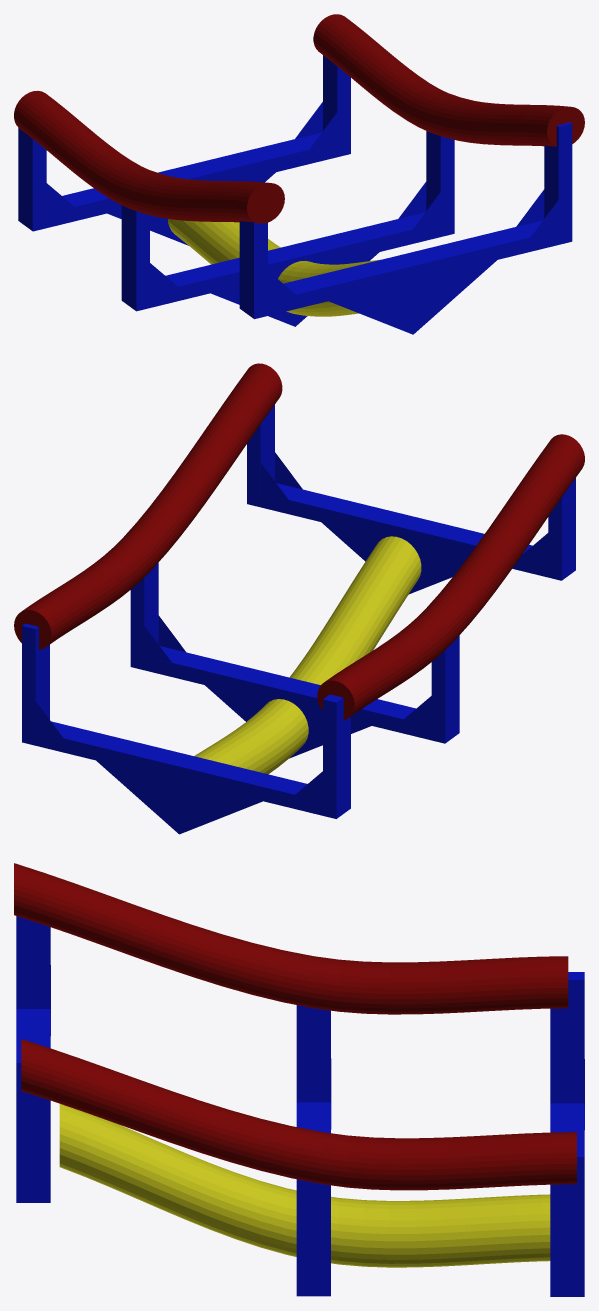
File: oneTrackPieceUp.fbx
The picture shows the model from 3 angles, top to bottom: view 1: azimuth 30°, elevation 25°; view 2: azimuth 150°, elevation 25°; view 3: azimuth 270°, elevation 25°; orthographic projection. The views are drawn at different scales.
Visible parts, largest first — view 1: right_circle, left_circle, Cube, Cube_4, Cap_2_4, Cube_2_3, bottum_circle, Cube_1, Cube_1_4, Cube_3, Cube_2, Cube_2_5 (+17 smaller); view 2: right_circle, left_circle, bottum_circle, Cube_4, Cube, Cube_3, Cap_1_13, Cube_1_4, Cube_2_5, Cap_1_4, Cube_1_3, Cube_2_4 (+8 smaller); view 3: bottum_circle, right_circle, left_circle, Cube_2_5, Cube_2, Cube_2_2, Cube_1_4, Cube_1_2, Cube_1, Cube, Cube_4, Cube_3 (+1 smaller).
Part boxes in pixels (left/top/right/bottom): right_circle: left=313, top=14, right=570, bottom=146; left_circle: left=14, top=90, right=268, bottom=223; Cube: left=254, top=220, right=572, bottom=319; Cube_4: left=34, top=132, right=349, bottom=231; Cap_2_4: left=326, top=257, right=499, bottom=334; Cube_2_3: left=138, top=219, right=454, bottom=310; bottum_circle: left=168, top=219, right=380, bottom=316; Cube_1: left=239, top=221, right=267, bottom=318; Cube_1_4: left=18, top=128, right=46, bottom=231; Cube_3: left=213, top=212, right=424, bottom=275; Cube_2: left=544, top=122, right=572, bottom=229; Cube_2_5: left=323, top=55, right=350, bottom=156; right_circle: left=21, top=363, right=282, bottom=646; left_circle: left=325, top=434, right=584, bottom=716; bottum_circle: left=194, top=536, right=421, bottom=774; Cube_4: left=22, top=721, right=336, bottom=818; Cube: left=247, top=483, right=561, bottom=580; Cube_3: left=131, top=646, right=444, bottom=743; Cap_1_13: left=93, top=758, right=265, bottom=834; Cube_1_4: left=323, top=694, right=350, bottom=818; Cube_2_5: left=22, top=623, right=49, bottom=744; Cap_1_4: left=321, top=522, right=466, bottom=594; Cube_1_3: left=431, top=635, right=459, bottom=743; Cube_2_4: left=130, top=562, right=158, bottom=669; bottum_circle: left=59, top=1104, right=550, bottom=1267; right_circle: left=21, top=1039, right=576, bottom=1190; left_circle: left=14, top=863, right=568, bottom=1014; Cube_2_5: left=550, top=1149, right=584, bottom=1296; Cube_2: left=16, top=1055, right=50, bottom=1202; Cube_2_2: left=296, top=1179, right=330, bottom=1295; Cube_1_4: left=550, top=972, right=584, bottom=1103; Cube_1_2: left=296, top=1005, right=330, bottom=1102; Cube_1: left=16, top=916, right=50, bottom=1008; Cube: left=16, top=1009, right=50, bottom=1202; Cube_4: left=550, top=1103, right=584, bottom=1148; Cube_3: left=296, top=1102, right=330, bottom=1133.
Size of the model in its own units: 371 by 277 by 452.
